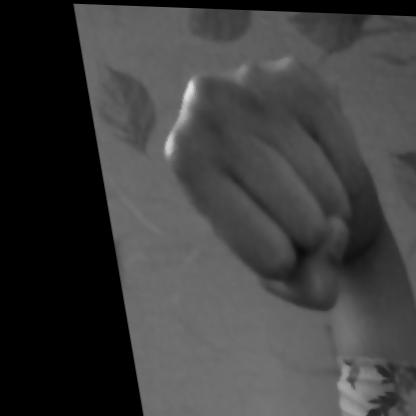fist: (134, 6, 415, 377)
